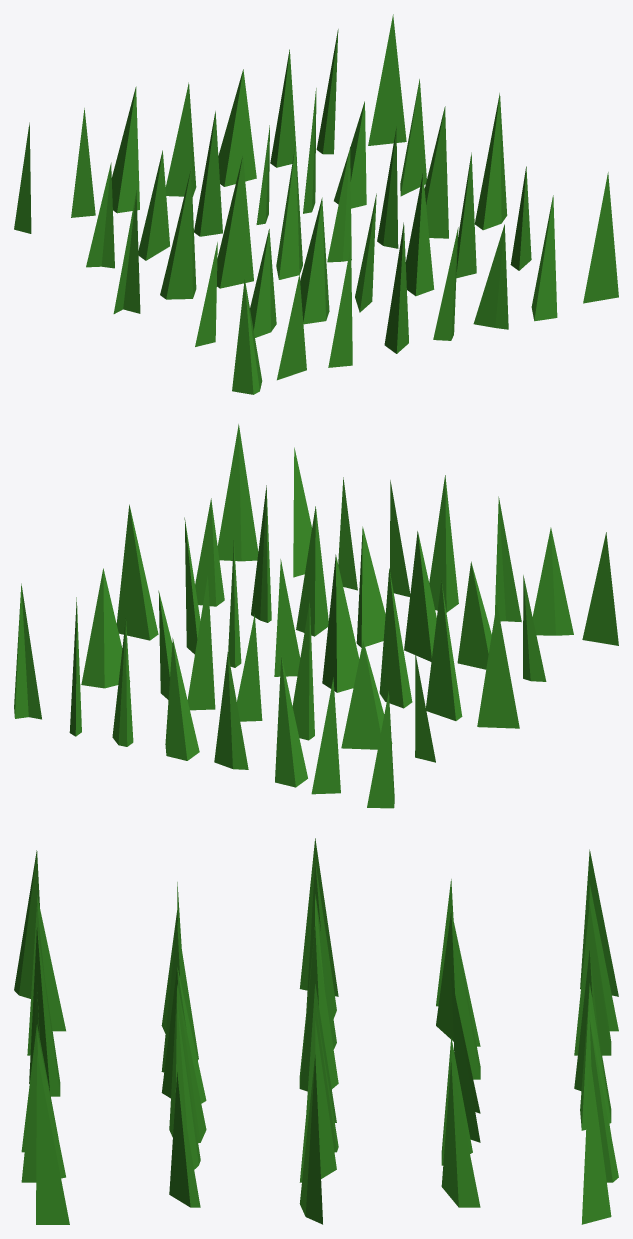
Rendered from farm_plants_3_green_mat.fbx.
3 views of the same model, one above another, from view 1: azimuth 30°, elevation 25°; view 2: azimuth 150°, elevation 25°; view 3: azimuth 270°, elevation 25° (orthographic). The views are drawn at different scales.
Visible parts, largest first — view 1: farm_plants_3_green_mat; view 2: farm_plants_3_green_mat; view 3: farm_plants_3_green_mat.
Boxes of the visible parts, <box> form: farm_plants_3_green_mat: <box>14,14,618,394</box>; farm_plants_3_green_mat: <box>14,424,618,808</box>; farm_plants_3_green_mat: <box>14,838,618,1224</box>.
Size of the model in its own units: 199 by 61.5 by 205.
